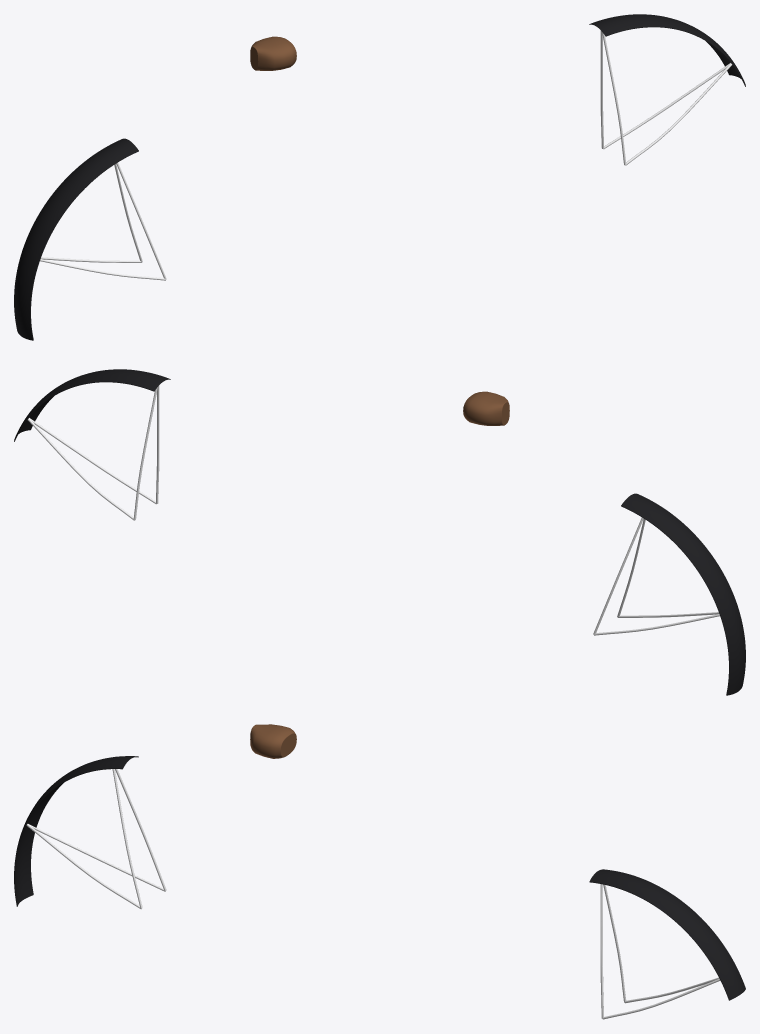
The model's file is bike_pioneer__bodywork.glb.
The picture shows the model from 3 angles, top to bottom: view 1: azimuth 30°, elevation 25°; view 2: azimuth 150°, elevation 25°; view 3: azimuth 330°, elevation 25°; orthographic projection.
Visible parts, largest first — view 1: frame_body__rear_mudguard, frame_body__front_mudguard, frame_body__front_mudguard__stays, frame_body__tool_bag, frame_body__rear_mudguard__stays; view 2: frame_body__rear_mudguard, frame_body__front_mudguard, frame_body__front_mudguard__stays, frame_body__tool_bag, frame_body__rear_mudguard__stays; view 3: frame_body__front_mudguard, frame_body__rear_mudguard, frame_body__rear_mudguard__stays, frame_body__front_mudguard__stays, frame_body__tool_bag.
Boxes of the visible parts, x1,y1,x2,y2 form: frame_body__rear_mudguard: (14, 138, 138, 340); frame_body__front_mudguard: (589, 14, 745, 86); frame_body__front_mudguard__stays: (600, 30, 732, 165); frame_body__tool_bag: (250, 36, 296, 70); frame_body__rear_mudguard__stays: (40, 162, 166, 280); frame_body__rear_mudguard: (621, 493, 745, 695); frame_body__front_mudguard: (14, 369, 170, 441); frame_body__front_mudguard__stays: (27, 385, 159, 520); frame_body__tool_bag: (463, 391, 509, 425); frame_body__rear_mudguard__stays: (593, 517, 719, 635); frame_body__front_mudguard: (589, 869, 745, 1000); frame_body__rear_mudguard: (14, 756, 138, 906); frame_body__rear_mudguard__stays: (26, 769, 166, 909); frame_body__front_mudguard__stays: (600, 884, 720, 1019); frame_body__tool_bag: (250, 724, 296, 758).
Bounding box in the file's own units: 188 × 57.8 × 11.35.
